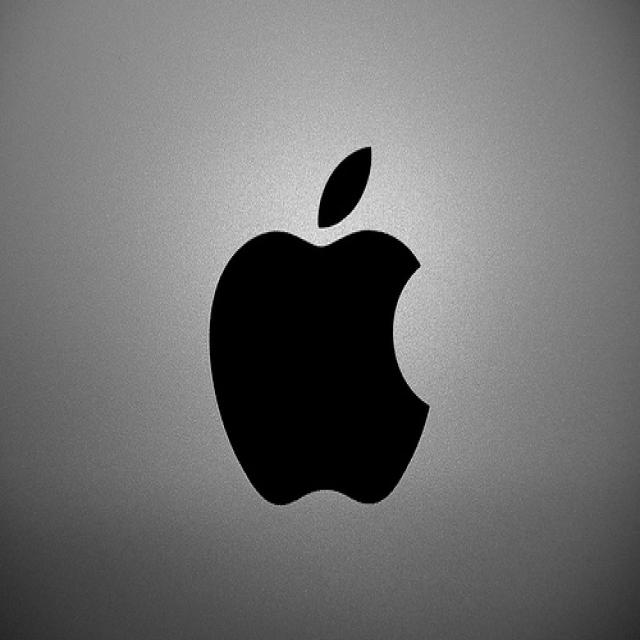apple: (202, 134, 437, 520)
